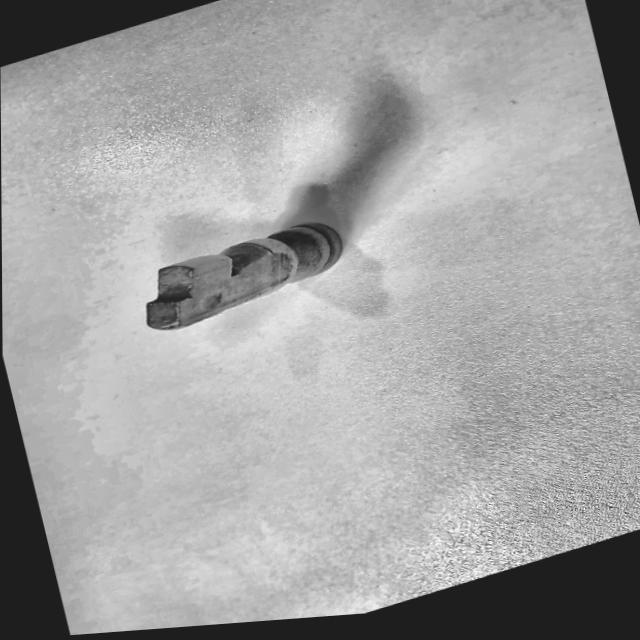black-knight: (120, 193, 368, 355)
